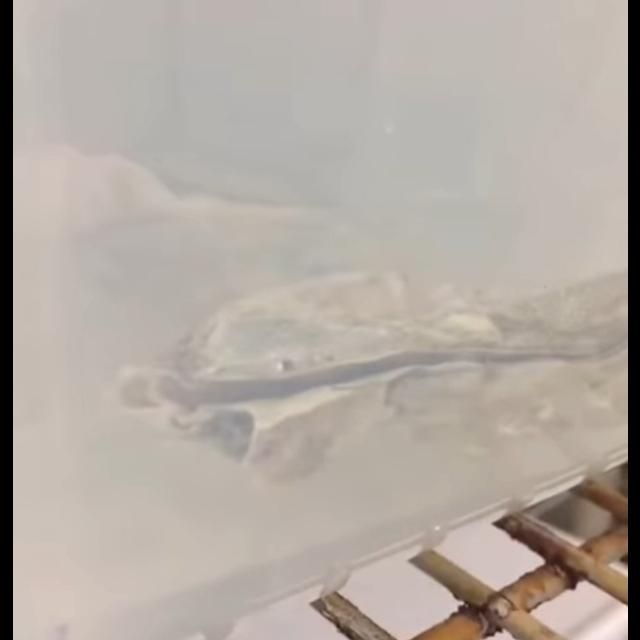Oyster-Closed: (54, 135, 346, 259)
Oyster-Open: (106, 270, 628, 492)
